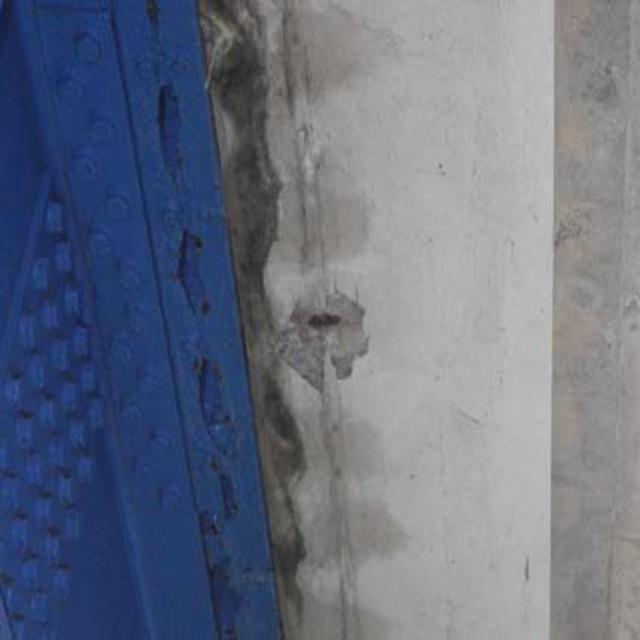spalling: (274, 276, 377, 408)
